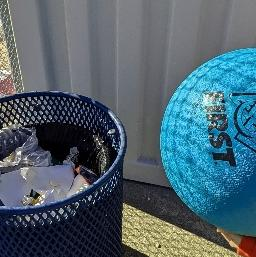algae: (156, 45, 256, 230)
